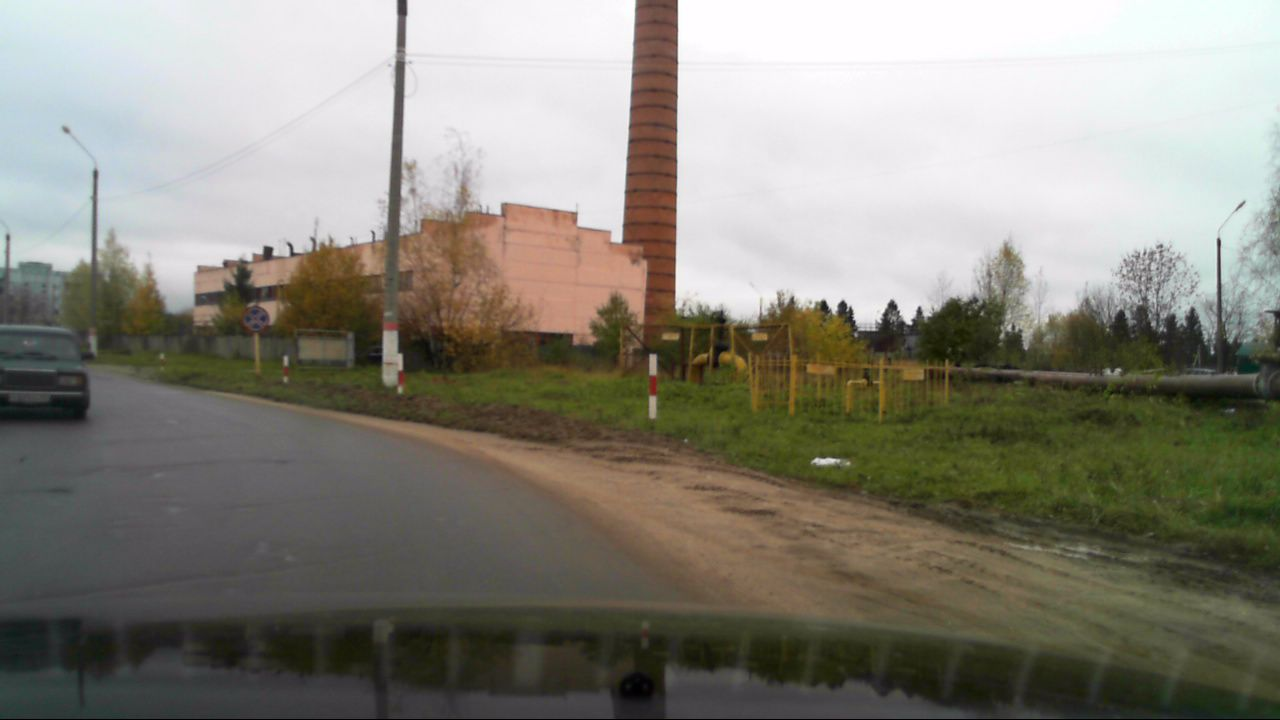No Parking: (240, 306, 270, 333)
